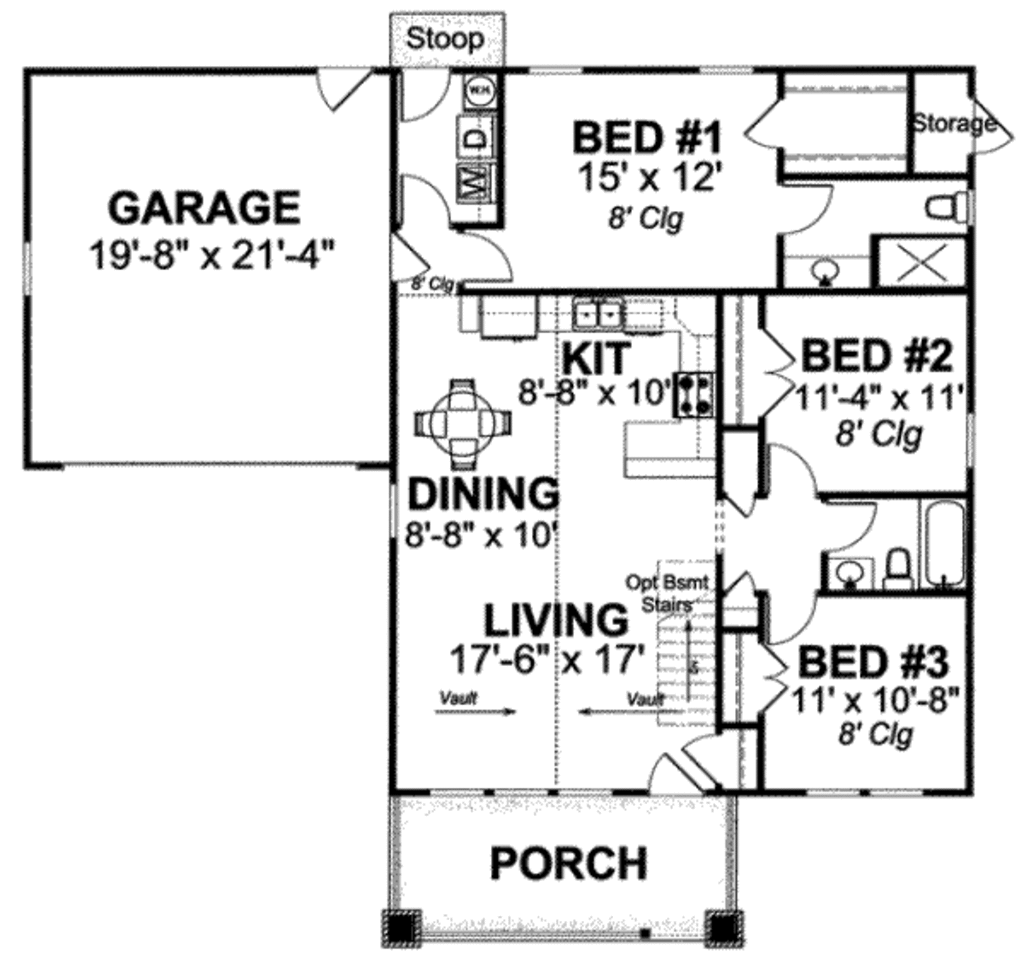door: (459, 229, 538, 287), (311, 57, 379, 120), (757, 321, 800, 417), (772, 175, 836, 238), (642, 744, 708, 805), (393, 62, 457, 123), (763, 438, 814, 512), (814, 493, 878, 551), (964, 99, 1018, 163), (387, 172, 450, 226), (761, 594, 820, 645), (742, 96, 793, 153), (388, 233, 436, 290), (759, 644, 794, 714), (715, 568, 759, 602), (724, 493, 753, 517)
large_sink: (911, 175, 976, 226), (884, 545, 917, 593)
round_table: (406, 363, 512, 486)
small_sink: (784, 251, 881, 286), (826, 556, 882, 594)
stairs: (633, 542, 712, 708)
tub: (923, 492, 961, 590)
twin_sink: (572, 293, 632, 339)
window: (426, 786, 611, 803), (809, 777, 933, 796), (12, 238, 44, 302), (378, 483, 406, 553), (520, 57, 581, 81), (699, 57, 760, 78)
